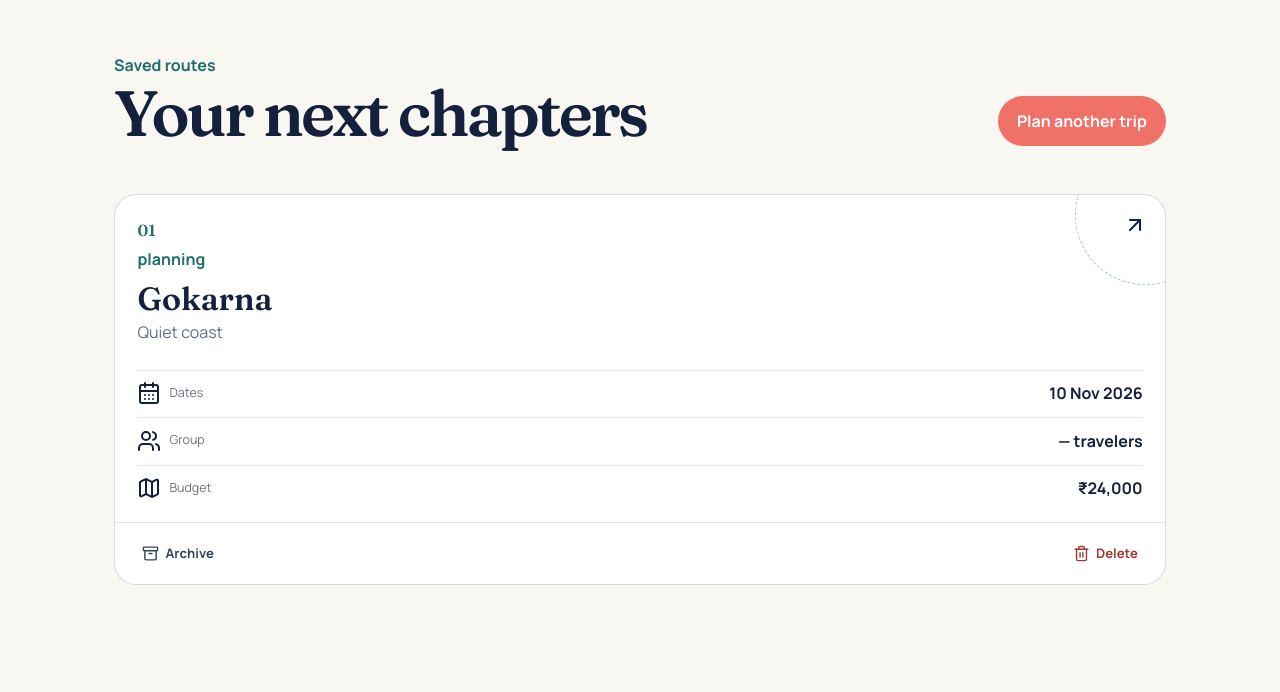
Test case: dashboard trip actions › moves an archived trip into a separate section and can restore it
Click the button with aria-label "Archive Quiet coast": coordinates (178, 554) top-left (131, 535), bottom-right (225, 573)
(page scrolled)
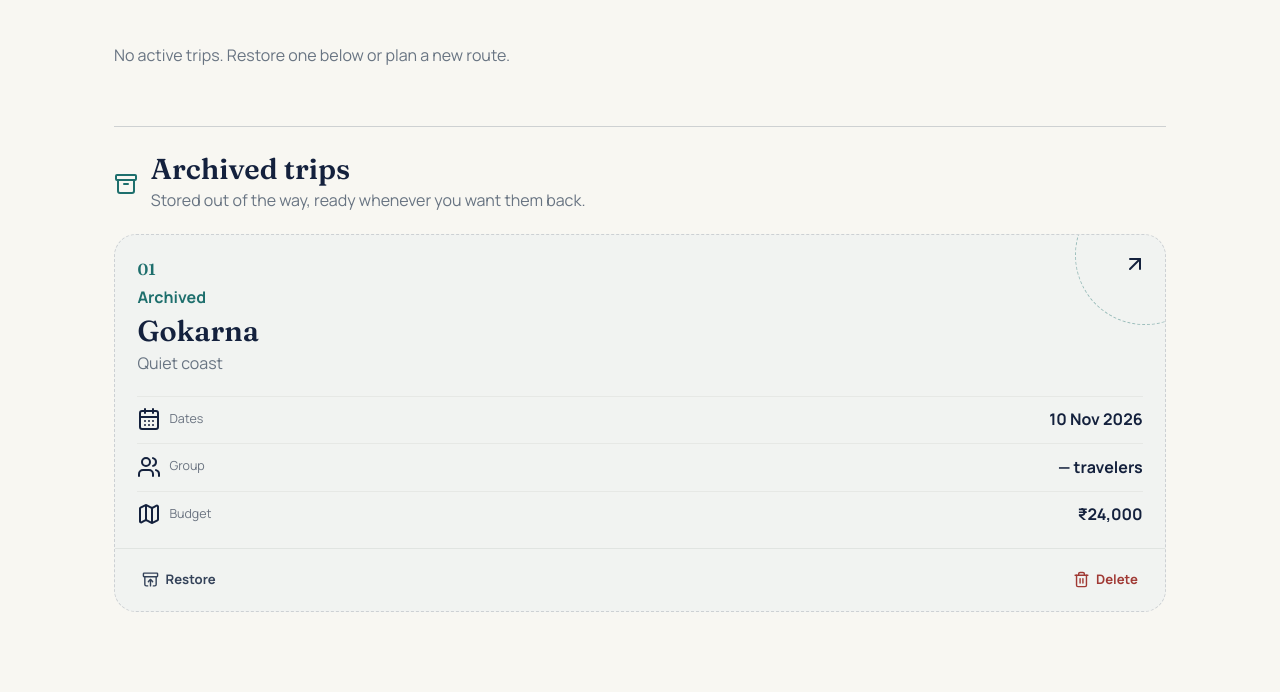
Check: the heading "Gokarna" is shown, box top-left (137, 313), bottom-right (259, 348)
Click the button with aria-label "Restore Quiet coast": coordinates (179, 580) top-left (131, 561), bottom-right (227, 599)
(page scrolled)
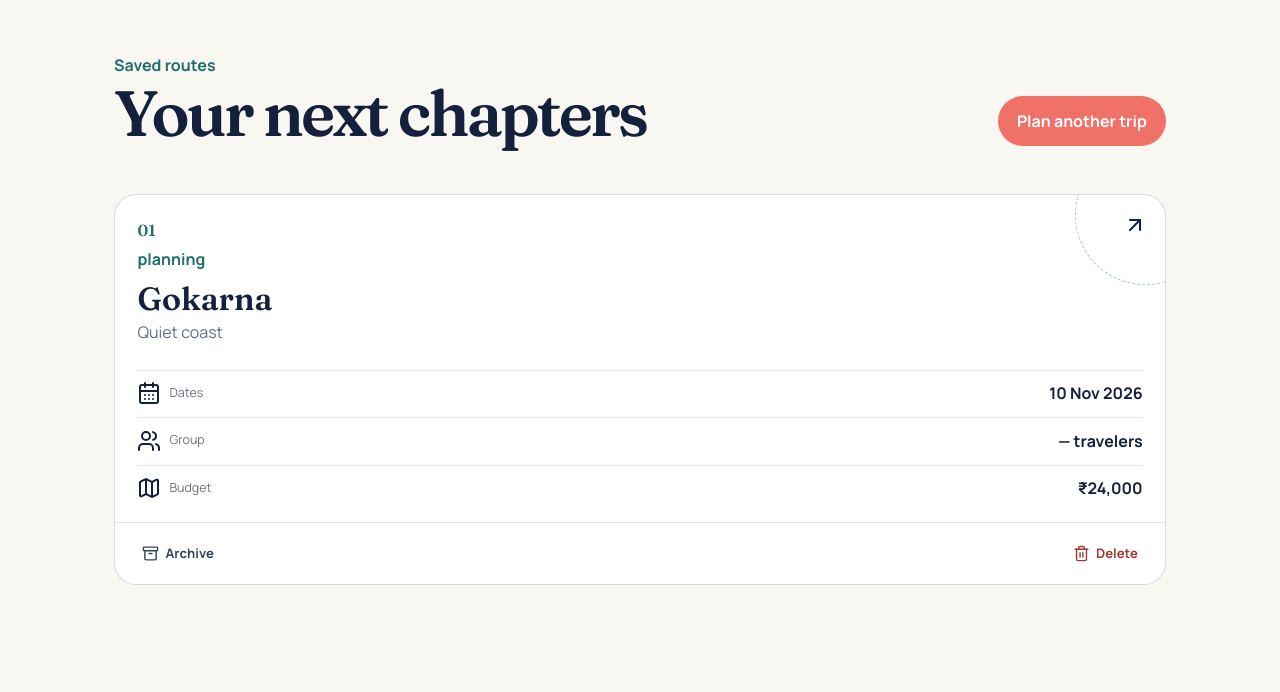
Check: the heading "Gokarna" is shown, box top-left (137, 279), bottom-right (272, 318)
Check: the heading "Archived trips" is gone
